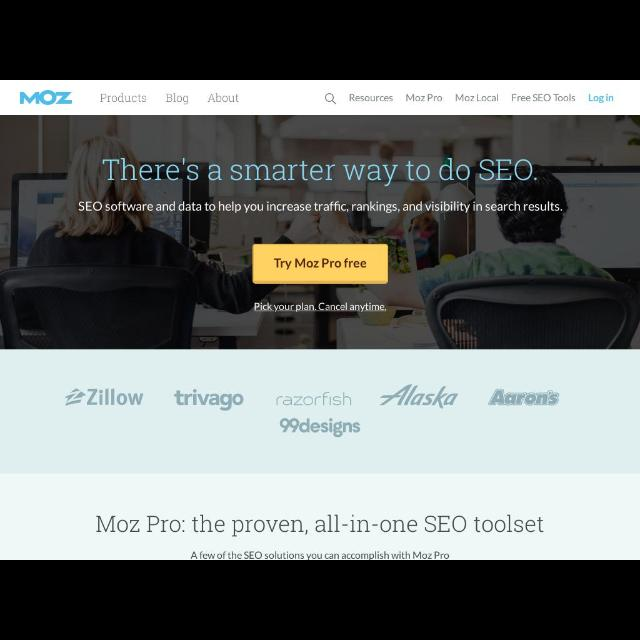backgroundimage: (1, 115, 640, 349)
icon: (380, 384, 458, 408), (174, 389, 244, 411), (64, 388, 144, 407), (281, 418, 361, 436), (488, 388, 560, 406), (276, 392, 352, 406), (326, 93, 336, 105)
image: (19, 90, 72, 106)
text: (101, 158, 536, 186), (96, 515, 544, 535), (78, 201, 562, 213), (191, 551, 449, 559), (254, 302, 386, 312), (274, 258, 366, 270), (100, 93, 146, 103), (350, 94, 392, 102), (456, 94, 498, 102), (512, 94, 550, 102), (406, 94, 442, 102), (166, 93, 188, 105), (588, 94, 614, 104), (208, 94, 240, 102), (553, 93, 575, 101)
textbutton: (252, 244, 388, 284)
toolbar: (1, 81, 639, 115)
